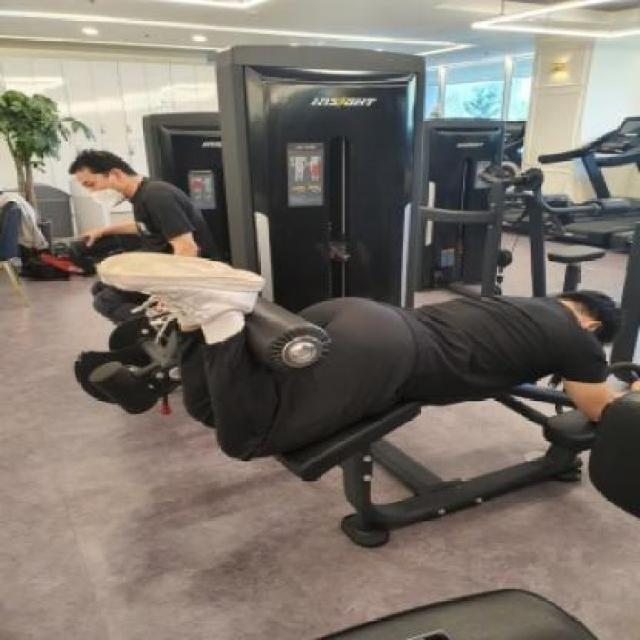reg curl machine: (66, 40, 640, 552)
